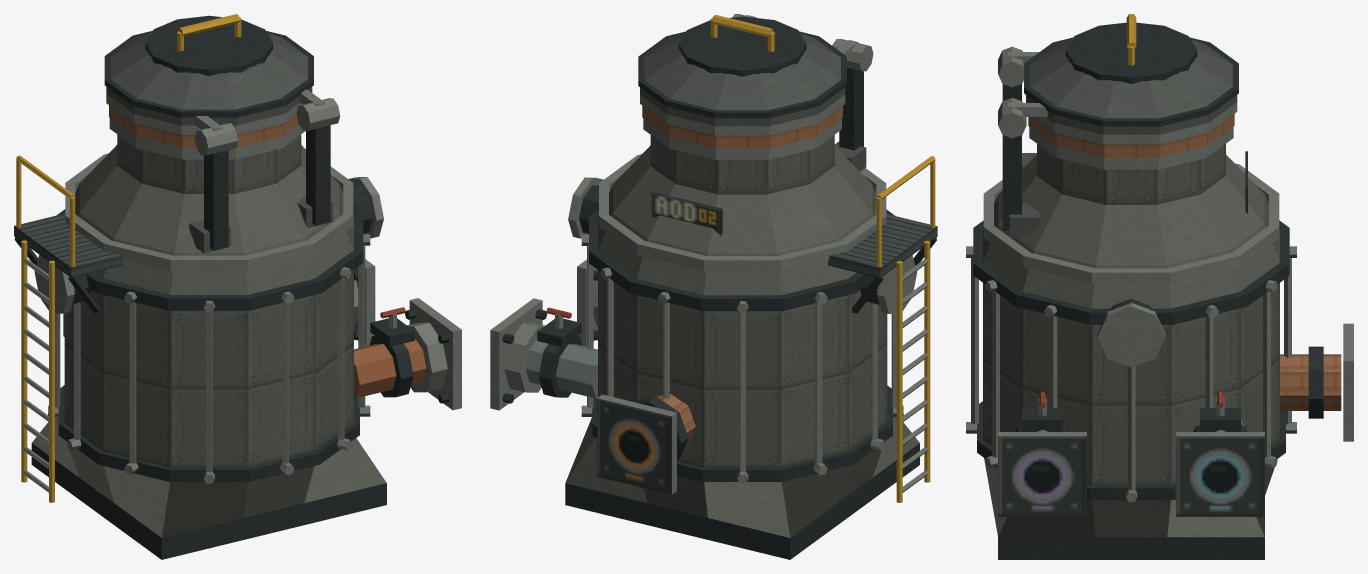
Rendered from large_aod.obj.
The picture shows the model from 3 angles, left to right: view 1: azimuth 30°, elevation 25°; view 2: azimuth 150°, elevation 25°; view 3: azimuth 270°, elevation 25°; orthographic projection. The views are drawn at different scales.
Parts seen in each view (by area): view 1: vessel, bands, lower_shell, lid, port_argon, hinge_mount, service_step, ladder, neck, lifting_lugs, port_oxygen; view 2: vessel, bands, lid, lower_shell, port_oxygen, port_casting, service_step, neck, ladder, hinge_mount, lifting_lugs, nameplate (+1 smaller); view 3: vessel, bands, lid, lower_shell, port_oxygen, port_argon, neck, port_casting, hinge_mount, lifting_lugs.
Part boxes in pixels (x1,y1,x2,y2): vessel: (64,134,353,467); bands: (48,153,370,483); lower_shell: (31,416,386,559); lid: (104,14,324,134); port_argon: (354,298,461,410); hinge_mount: (189,98,340,253); service_step: (14,155,123,313); ladder: (21,240,54,502); neck: (109,105,305,159); lifting_lugs: (34,177,383,313); port_oxygen: (354,259,375,346); vessel: (598,135,887,467); bands: (581,154,903,483); lid: (638,14,858,135); lower_shell: (565,417,919,559); port_oxygen: (490,298,597,410); port_casting: (597,393,695,494); service_step: (828,156,937,313); neck: (642,106,842,159); ladder: (896,240,930,502); hinge_mount: (732,14,873,171); lifting_lugs: (568,177,917,313); nameplate: (650,191,722,235); vessel: (983,144,1279,485); bands: (966,163,1296,502); lid: (1008,14,1238,144); lower_shell: (984,458,1277,559); port_oxygen: (1176,391,1264,516); port_argon: (998,391,1086,516); neck: (1028,114,1234,169); port_casting: (1280,323,1353,441); hinge_mount: (998,46,1039,237); lifting_lugs: (1097,298,1165,367).
Size of the model in its own units: 4.82 by 5.9 by 4.36.
